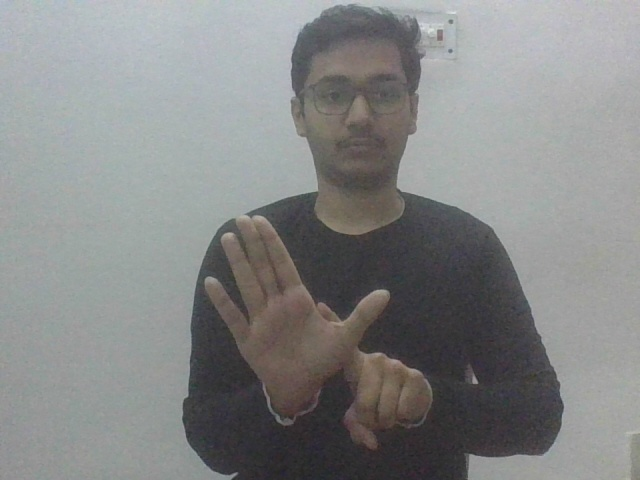Y: (210, 214, 434, 451)
